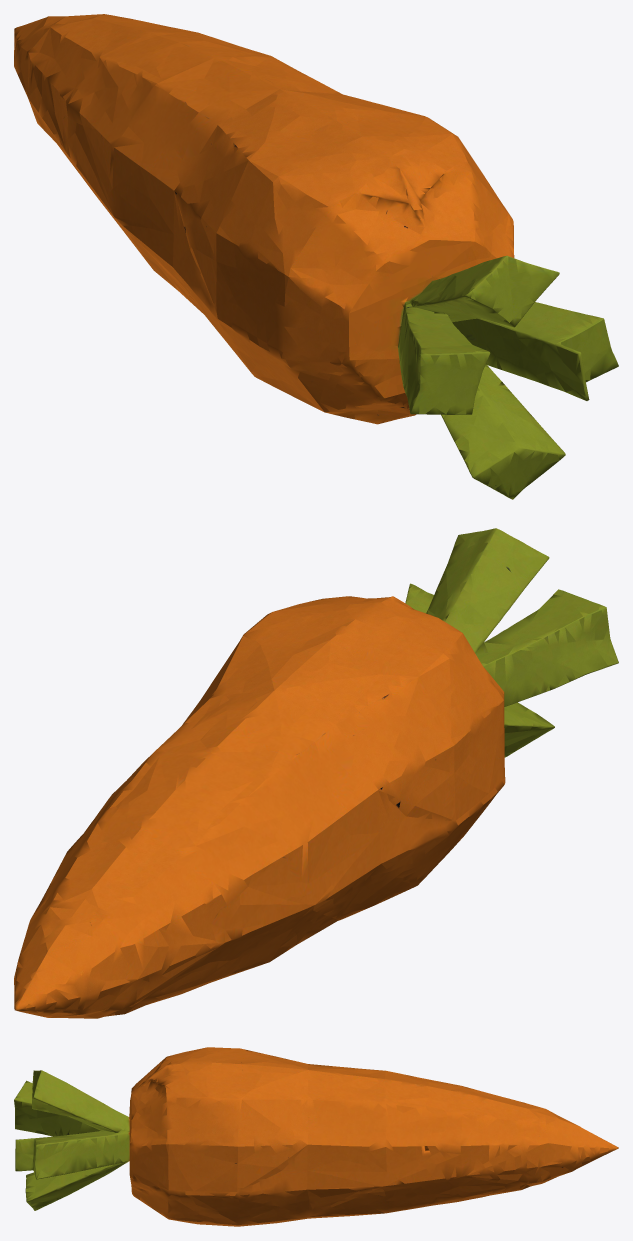
Rendered from new_carrot_1.fbx.
3 views of the same model, one above another, from view 1: azimuth 30°, elevation 25°; view 2: azimuth 150°, elevation 25°; view 3: azimuth 270°, elevation 25° (orthographic). The views are drawn at different scales.
Parts seen in each view (by area): view 1: tripo_node_2989ba75; view 2: tripo_node_2989ba75; view 3: tripo_node_2989ba75.
Boxes of the visible parts, box(x1,y1,x2,y2) form: tripo_node_2989ba75: box(14, 14, 618, 499); tripo_node_2989ba75: box(14, 528, 618, 1018); tripo_node_2989ba75: box(14, 1047, 618, 1226).
Bounding box in the file's own units: 27.45 × 27.7 × 98.
Materials: 1 (1 with a texture image).
